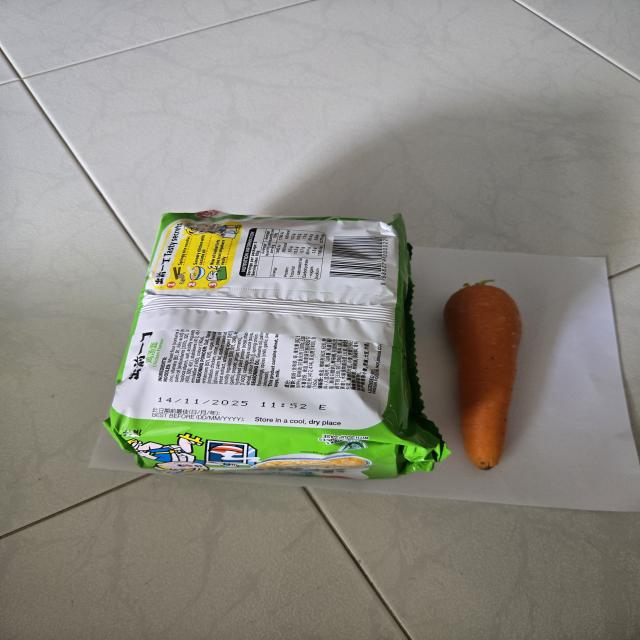carrot: (431, 268, 538, 476)
instant-noodle: (96, 193, 467, 487)
